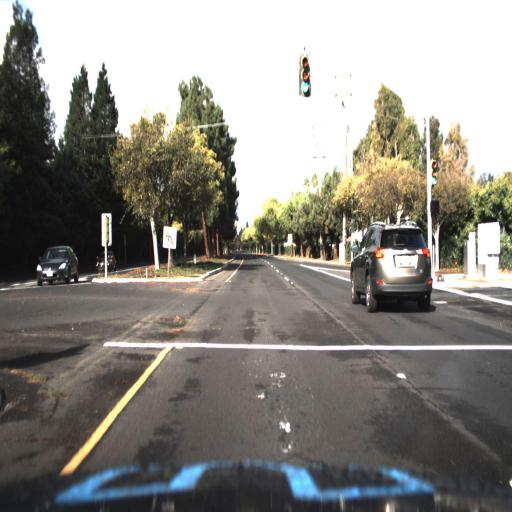car: (350, 220, 434, 315), (33, 236, 80, 287), (92, 246, 116, 279), (92, 246, 119, 272)
trafficLight-Green: (296, 54, 313, 100), (298, 49, 311, 99), (427, 154, 438, 192), (428, 154, 439, 182)
